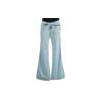pantaloni: (38, 18, 66, 79)
